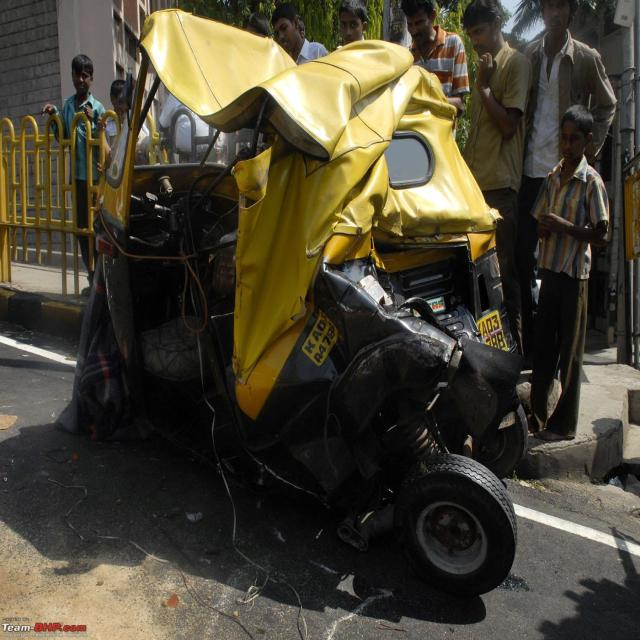accident: (95, 10, 528, 594)
